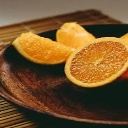orange: (64, 36, 128, 88)
